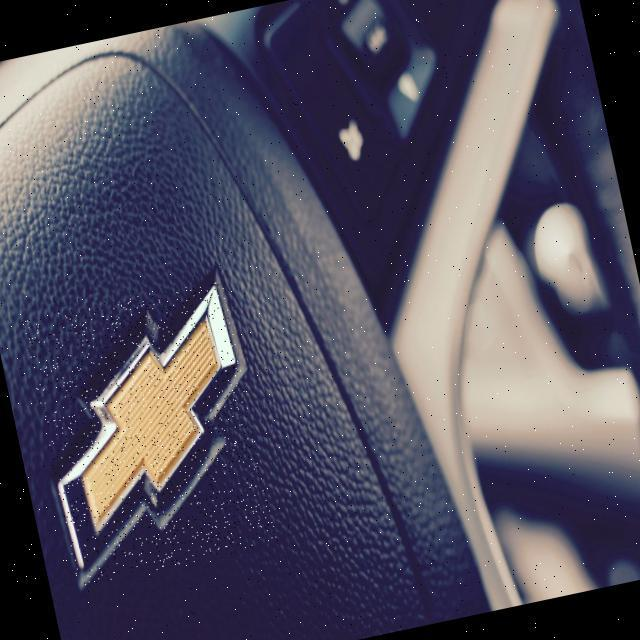Chevrolet: (22, 278, 278, 586)
